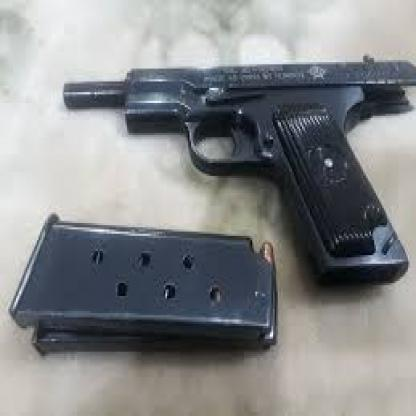Pistol: (58, 47, 413, 285)
